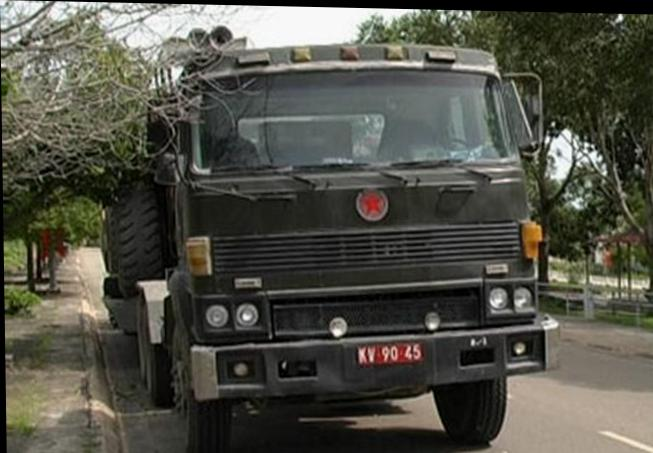License_Plate: (351, 340, 424, 368)
